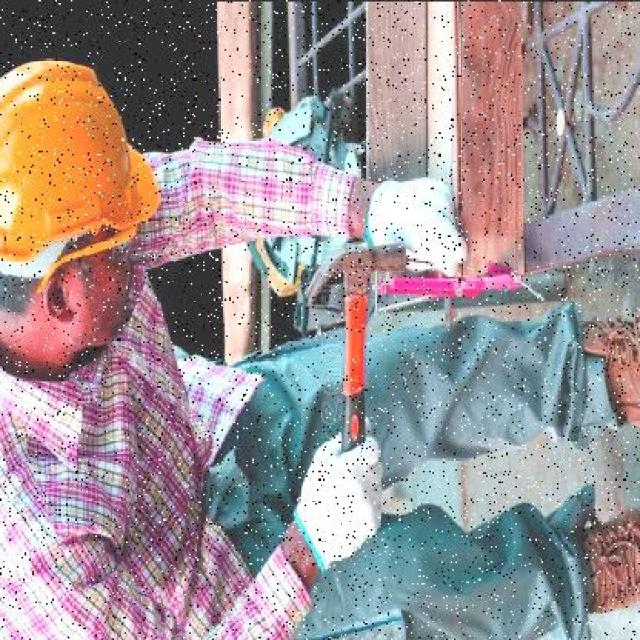shoes: (577, 319, 638, 421), (587, 502, 639, 613)
